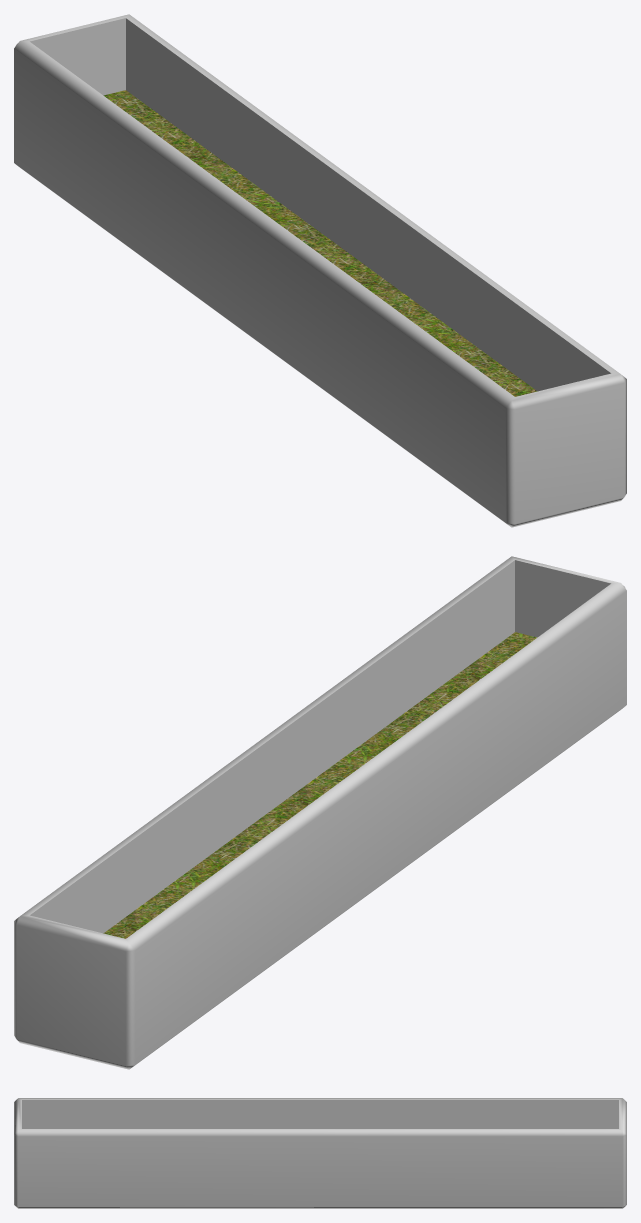
The model's file is Prop_Pot.fbx.
3 views of the same model, one above another, from view 1: azimuth 30°, elevation 25°; view 2: azimuth 150°, elevation 25°; view 3: azimuth 270°, elevation 25° (orthographic). The views are drawn at different scales.
Parts seen in each view (by area): view 1: Prop_Pot; view 2: Prop_Pot; view 3: Prop_Pot.
Part boxes in pixels (x1,y1,x2,y2): Prop_Pot: (14,14,626,527); Prop_Pot: (14,556,626,1069); Prop_Pot: (14,1098,626,1208).
Size of the model in its own units: 48.86 by 48.86 by 348.
2 materials, 1 textured.
